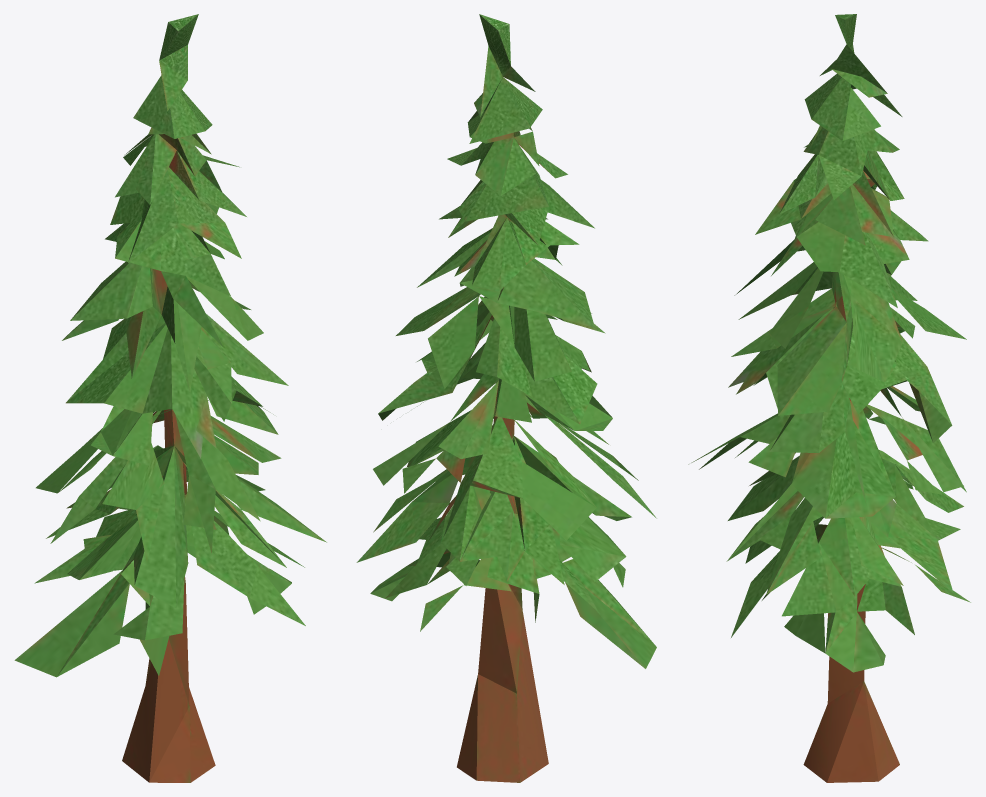
File: w_tanne.glb
3 renders of one model, left to right at view 1: azimuth 30°, elevation 25°; view 2: azimuth 150°, elevation 25°; view 3: azimuth 270°, elevation 25°, orthographic. The views are drawn at different scales.
Bounding box in the file's own units: 0.7092 × 1.85 × 0.6312.
Materials: 1 (1 with a texture image).
